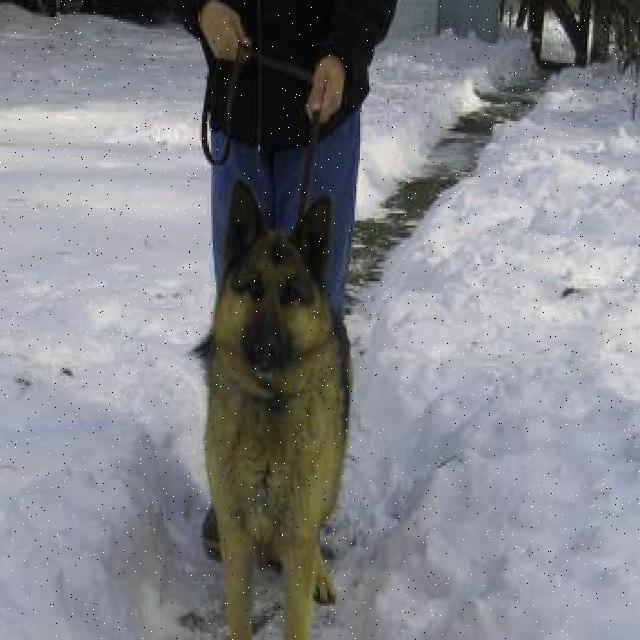Dog: (213, 177, 340, 395)
